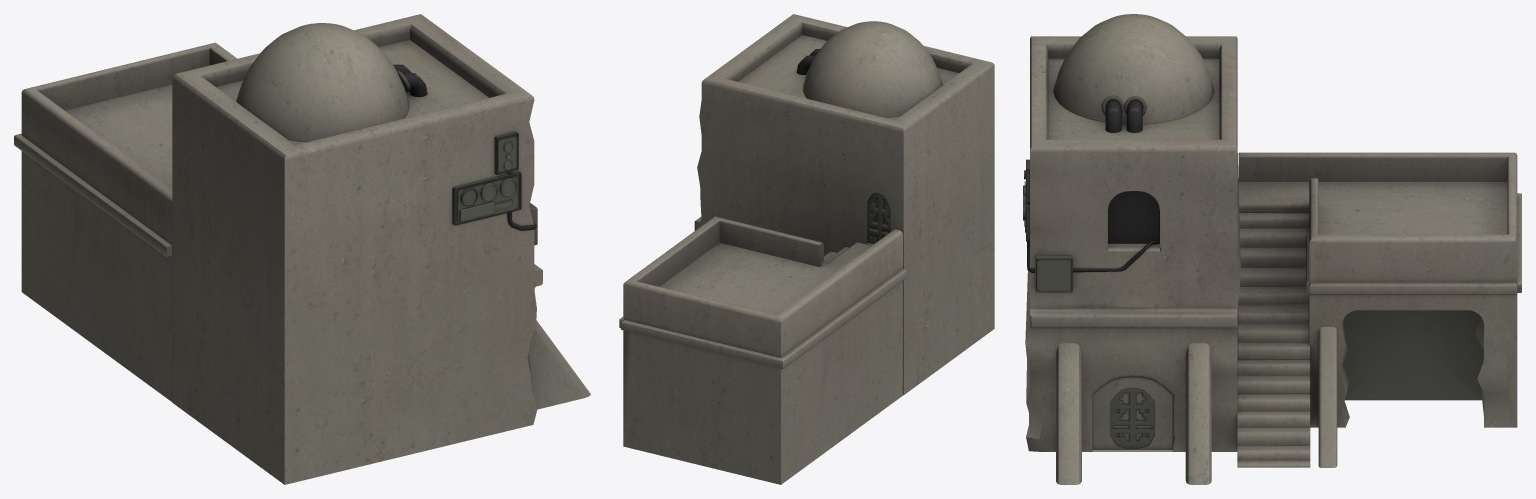
Rendered from casa3color.obj.
3 views of the same model, side by side, from view 1: azimuth 30°, elevation 25°; view 2: azimuth 150°, elevation 25°; view 3: azimuth 270°, elevation 25° (orthographic). The views are drawn at different scales.
Visible parts, largest first — view 1: casa3; view 2: casa3; view 3: casa3.
Boxes of the visible parts, bbox=[...] form: casa3: bbox=[14, 14, 590, 484]; casa3: bbox=[619, 14, 994, 484]; casa3: bbox=[1023, 14, 1521, 484].
Bounding box in the file's own units: 12.45 × 14.23 × 17.78.
1 material, 1 textured.
